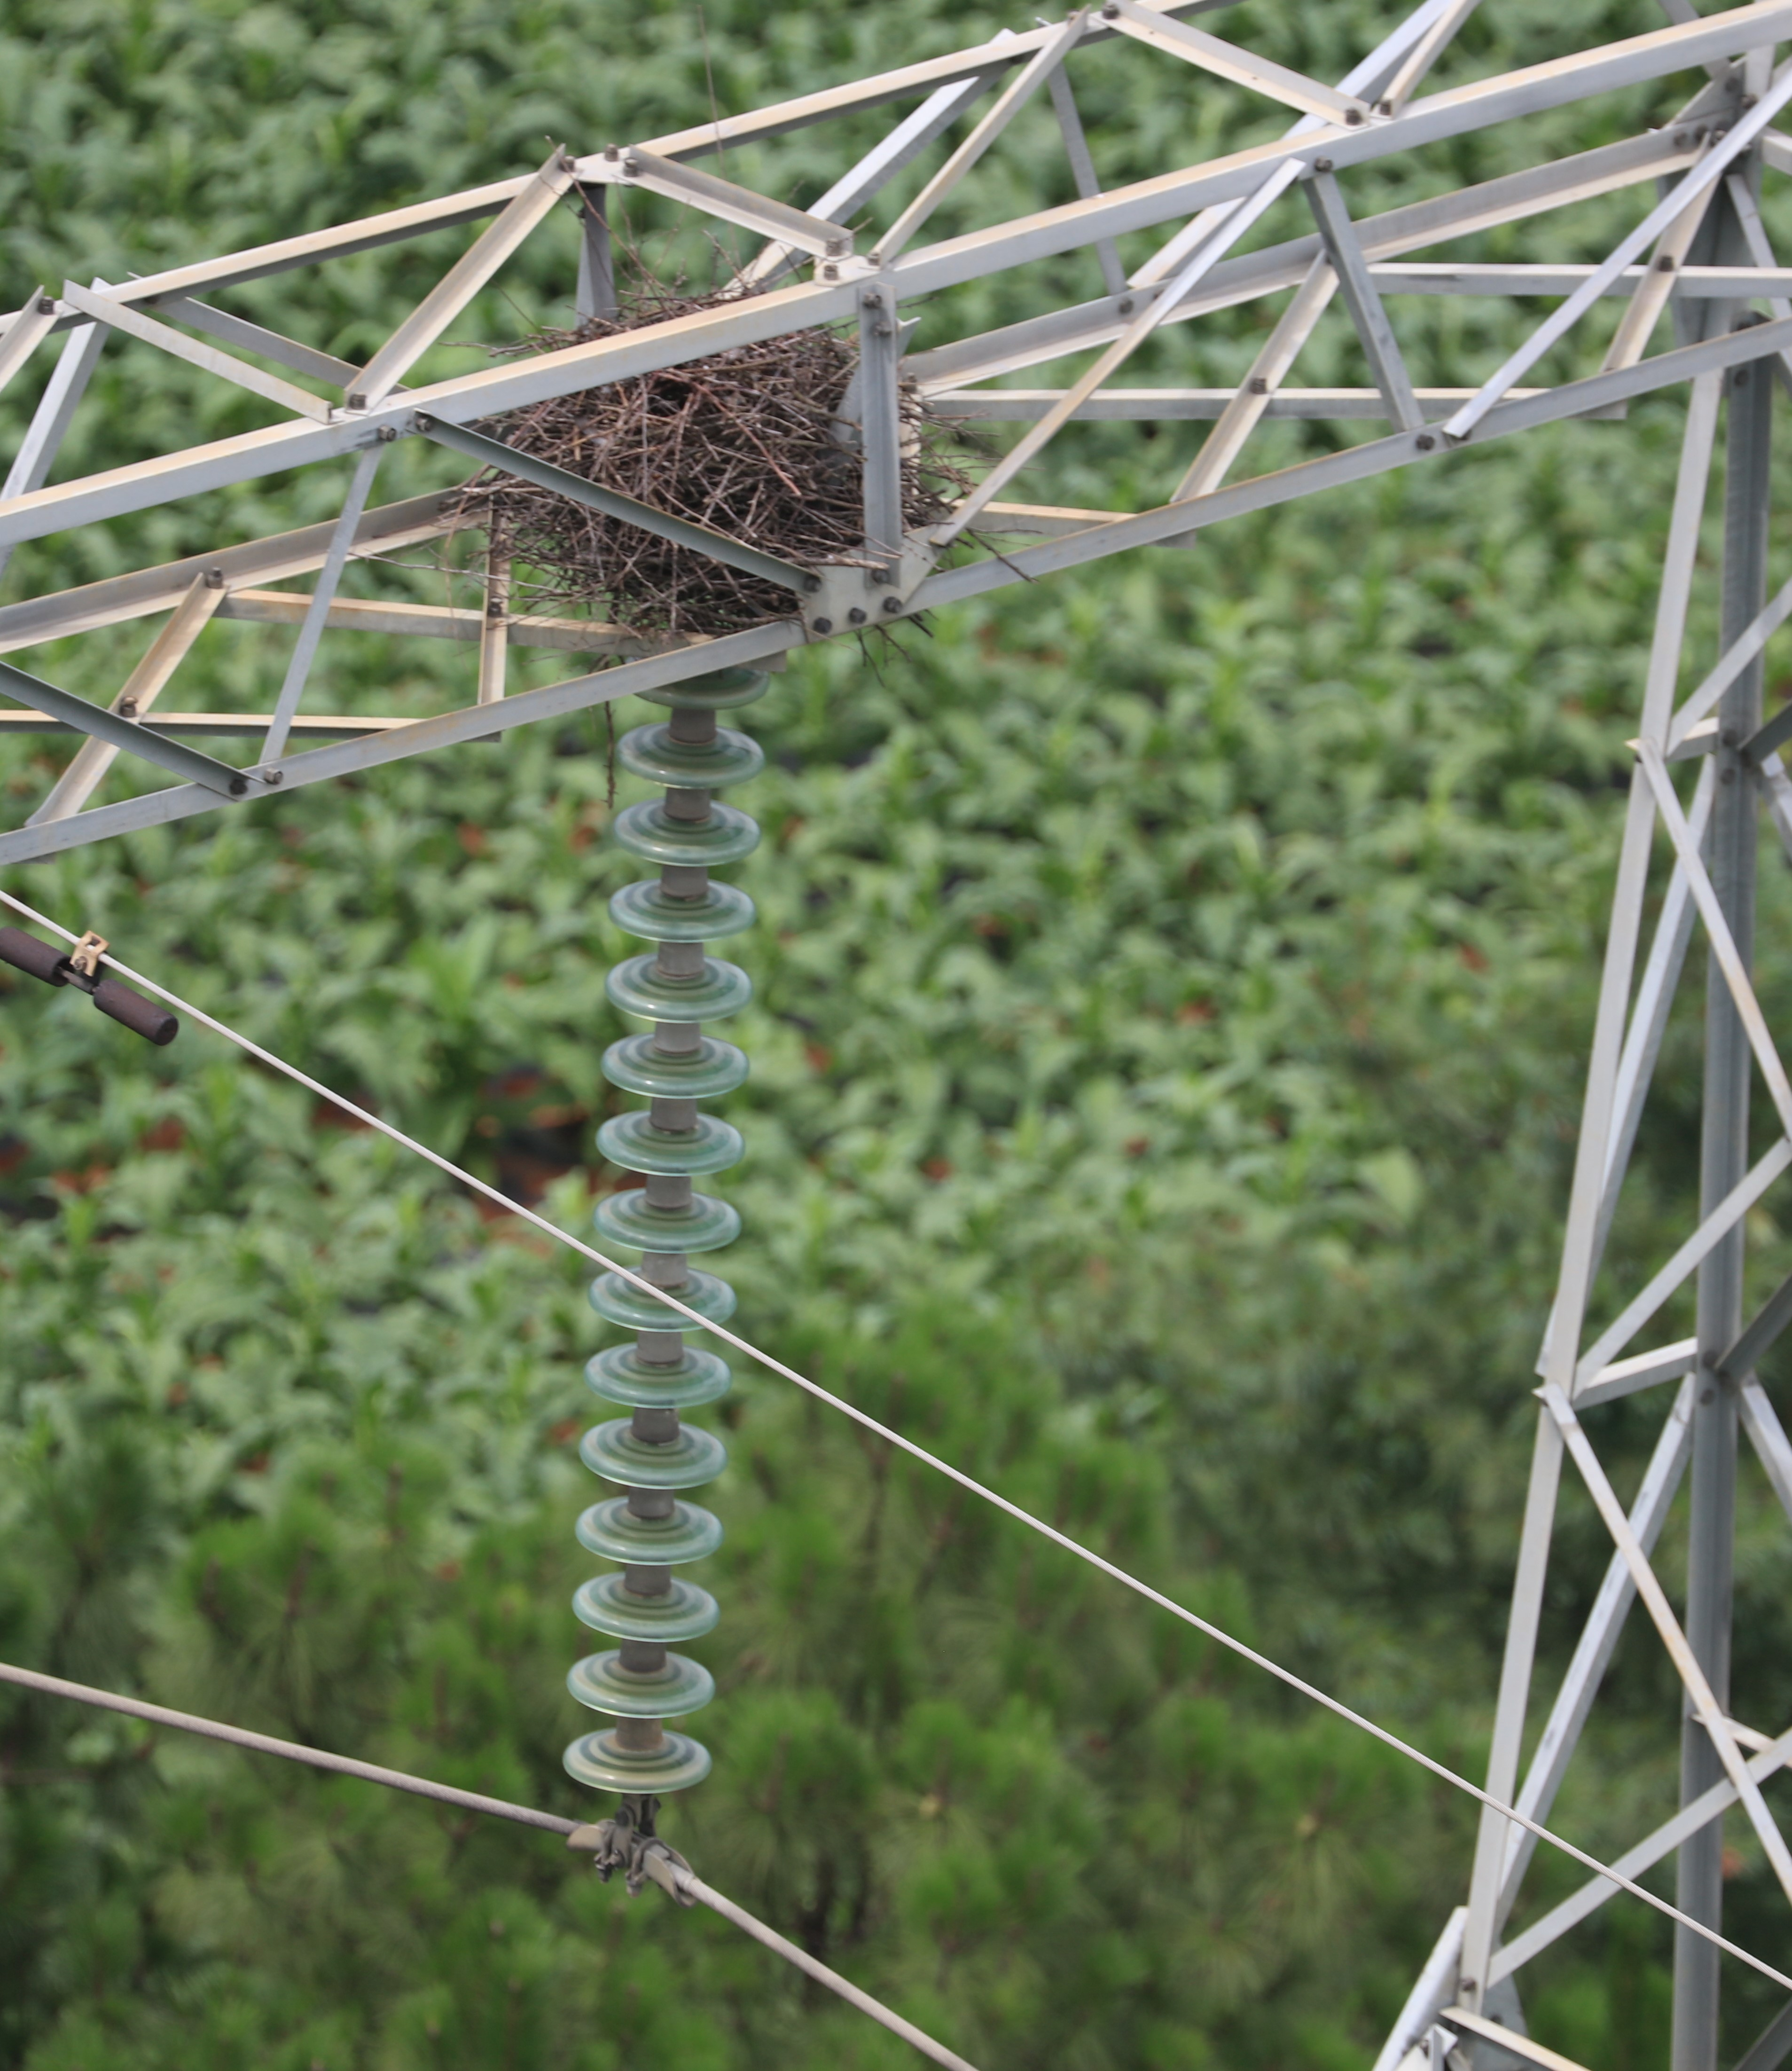niaowo: (454, 273, 977, 664)
